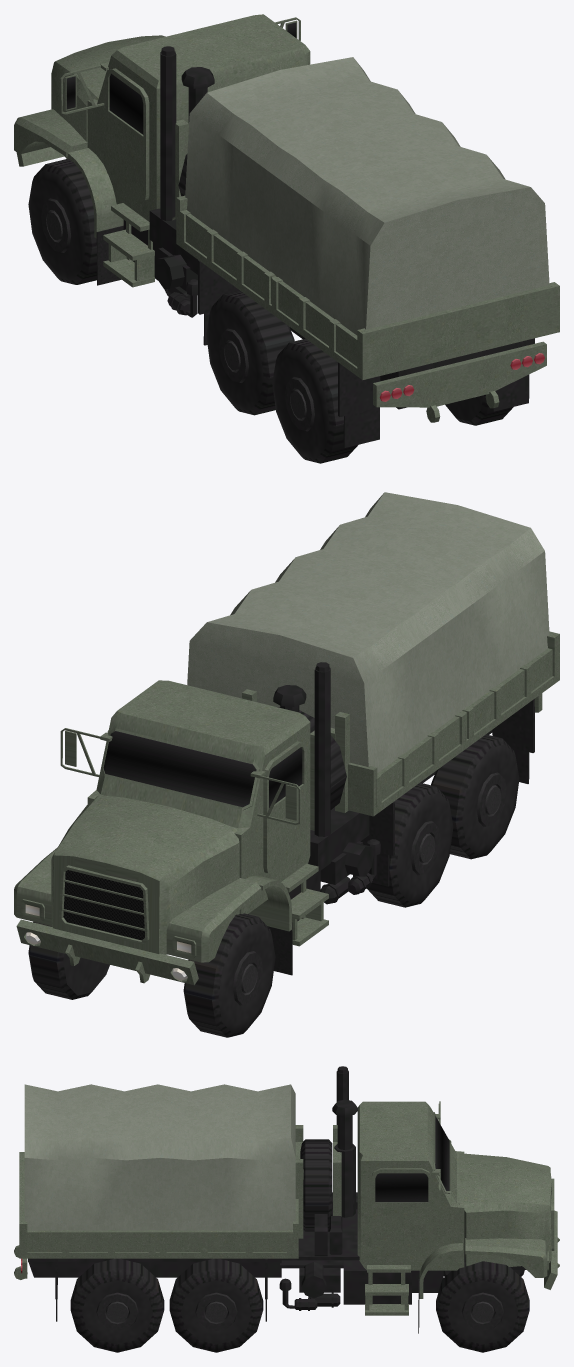
The model's file is western_mtvr.obj.
3 renders of one model, top to bottom at view 1: azimuth 30°, elevation 25°; view 2: azimuth 150°, elevation 25°; view 3: azimuth 270°, elevation 25°, orthographic. The views are drawn at different scales.
Parts seen in each view (by area): view 1: Plane.001; view 2: Plane.001; view 3: Plane.001.
Boxes of the visible parts, bbox=[...] form: Plane.001: bbox=[14, 14, 559, 463]; Plane.001: bbox=[14, 492, 559, 1037]; Plane.001: bbox=[14, 1066, 559, 1352].
Size of the model in its own units: 2.37 by 2.82 by 6.25.
Materials: 1 (1 with a texture image).
